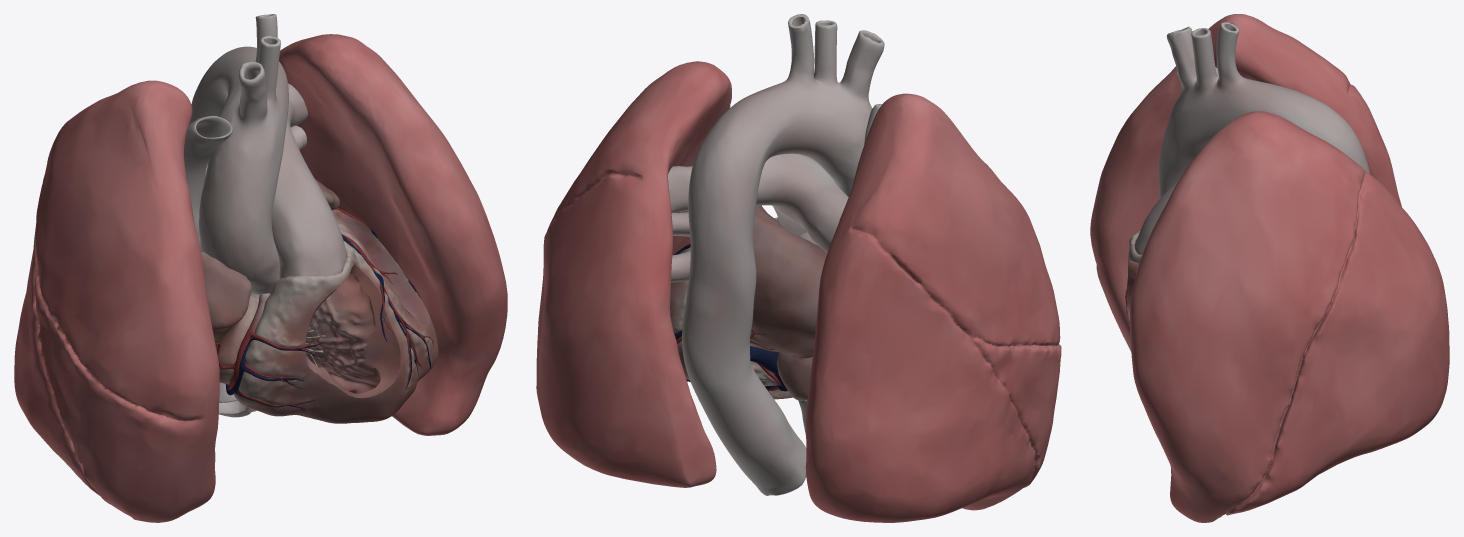
The picture shows the model from 3 angles, left to right: view 1: azimuth 30°, elevation 25°; view 2: azimuth 150°, elevation 25°; view 3: azimuth 270°, elevation 25°; orthographic projection. The views are drawn at different scales.
Visible parts, largest first — view 1: linkerlong3, normaal6, normaal5, normaal25; view 2: linkerlong3, normaal5, normaal6, normaal25; view 3: linkerlong3, normaal5, normaal6.
Part boxes in pixels (left/top/right/bottom): linkerlong3: left=14, top=34, right=507, bottom=522; normaal6: left=201, top=125, right=438, bottom=423; normaal5: left=184, top=14, right=346, bottom=417; normaal25: left=215, top=207, right=433, bottom=411; linkerlong3: left=536, top=61, right=1061, bottom=522; normaal5: left=668, top=14, right=884, bottom=495; normaal6: left=670, top=205, right=827, bottom=400; normaal25: left=674, top=243, right=787, bottom=394; linkerlong3: left=1090, top=14, right=1449, bottom=522; normaal5: left=1134, top=22, right=1369, bottom=254; normaal6: left=1127, top=231, right=1157, bottom=437.
Bounding box in the file's own units: 1.41 × 1.39 × 1.06.
